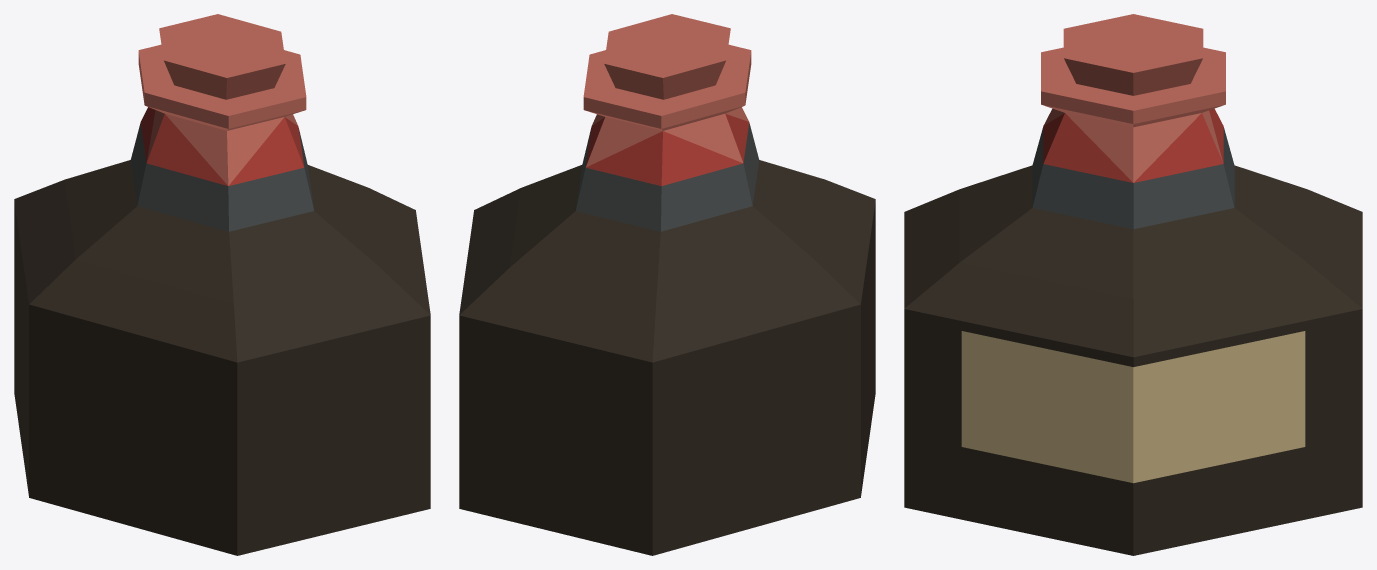
Rendered from wine-red.glb.
3 views of the same model, side by side, from view 1: azimuth 30°, elevation 25°; view 2: azimuth 150°, elevation 25°; view 3: azimuth 270°, elevation 25° (orthographic). The views are drawn at different scales.
Size of the model in its own units: 1 by 1 by 1.
